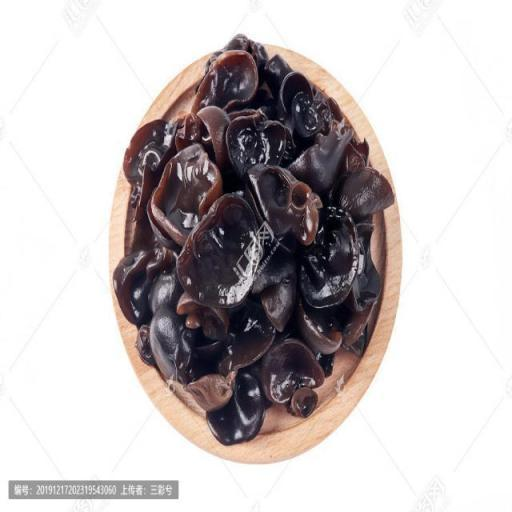mushroom: (114, 37, 396, 447)
